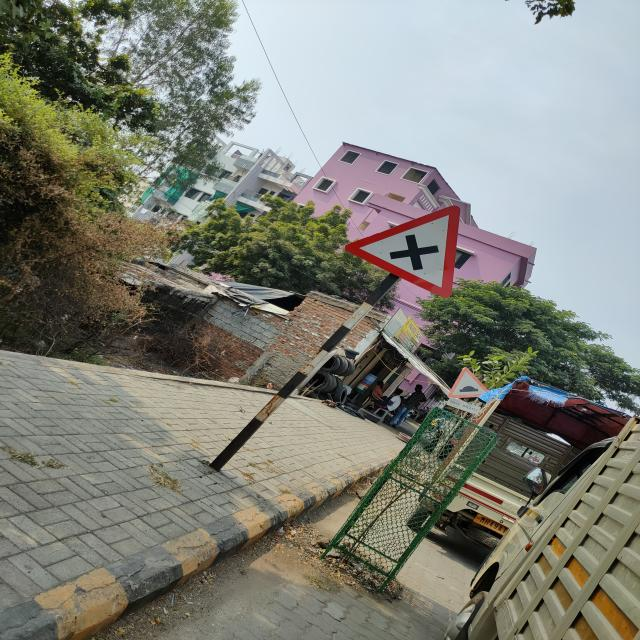cross_road: (342, 205, 464, 303)
